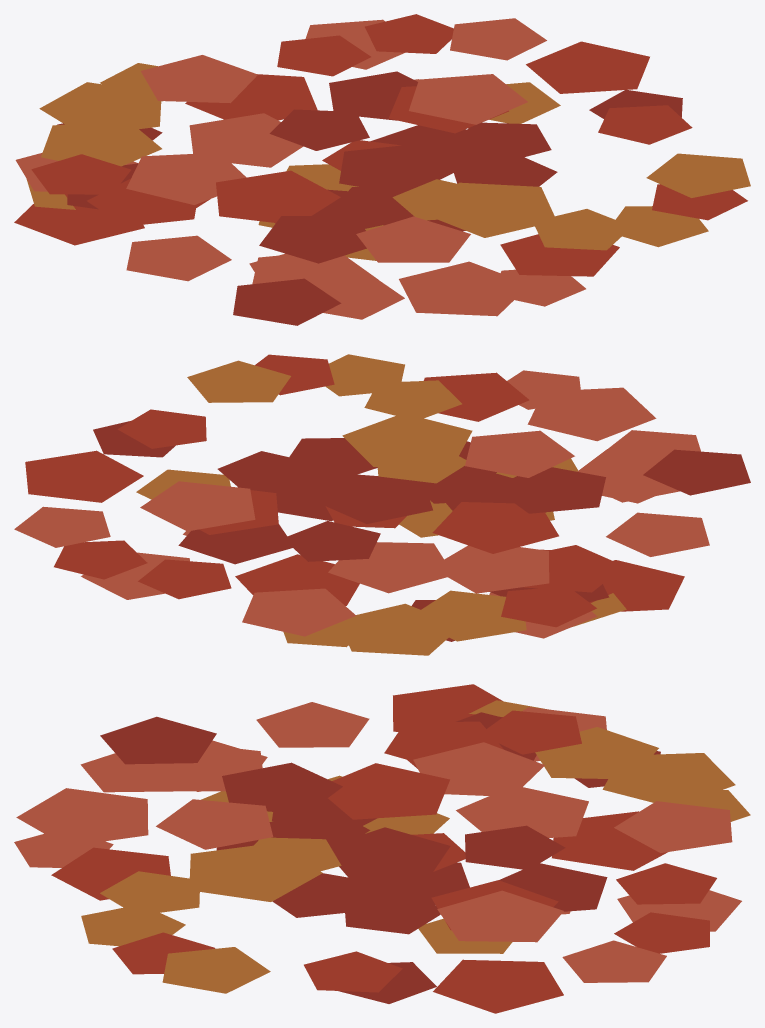
File: ring_maple.glb
The picture shows the model from 3 angles, top to bottom: view 1: azimuth 30°, elevation 25°; view 2: azimuth 150°, elevation 25°; view 3: azimuth 270°, elevation 25°; orthographic projection. The views are drawn at different scales.
Parts seen in each view (by area): view 1: body_nh; view 2: body_nh; view 3: body_nh.
Boxes of the visible parts, left/top/right/bottom form: body_nh: left=14, top=14, right=750, bottom=325; body_nh: left=14, top=354, right=750, bottom=655; body_nh: left=14, top=684, right=750, bottom=1013.
Size of the model in its own units: 10.48 by 0.0342 by 9.89.
